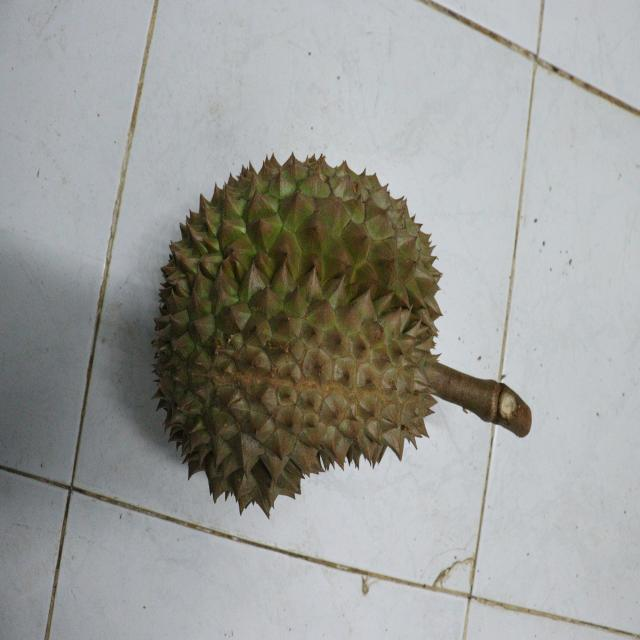mature: (150, 146, 441, 520)
